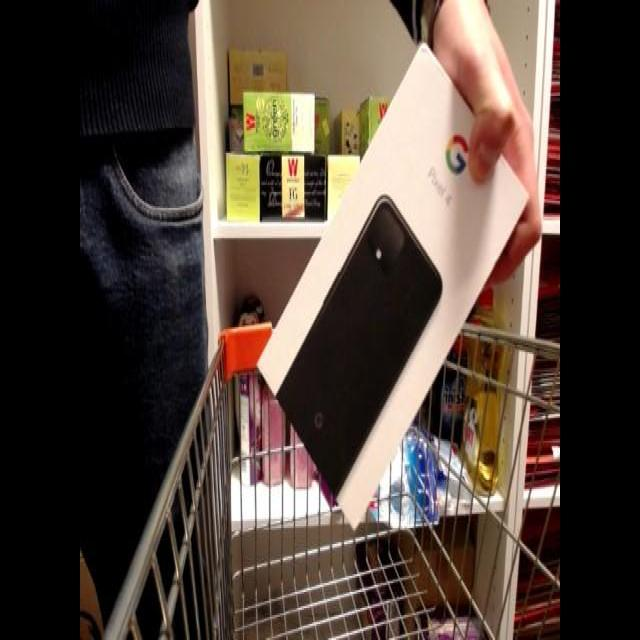Pixel 4: (252, 31, 548, 534)
